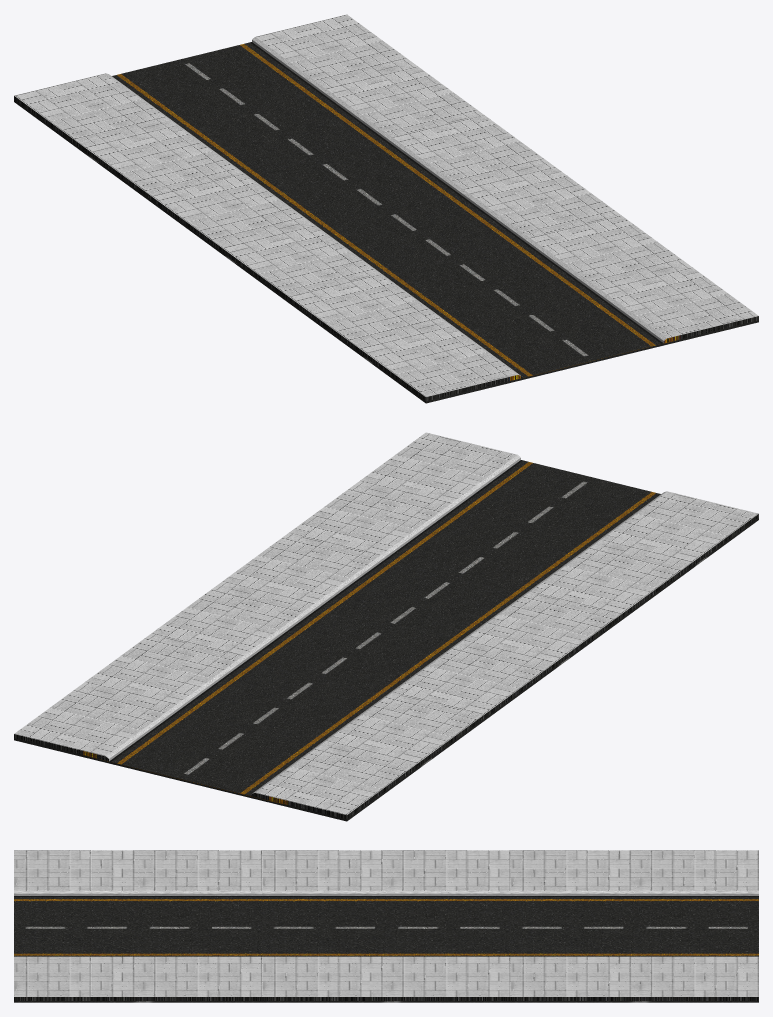
File: road15M.fbx
The picture shows the model from 3 angles, top to bottom: view 1: azimuth 30°, elevation 25°; view 2: azimuth 150°, elevation 25°; view 3: azimuth 270°, elevation 25°; orthographic projection. The views are drawn at different scales.
Parts seen in each view (by area): view 1: road; view 2: road; view 3: road.
Part boxes in pixels (x1=…): road: x1=14, y1=14, x2=758, y2=403; road: x1=14, y1=432, x2=758, y2=821; road: x1=14, y1=850, x2=758, y2=1002.
Bounding box in the file's own units: 2100 × 38.01 × 4500.
Materials: 3 (3 with a texture image).
